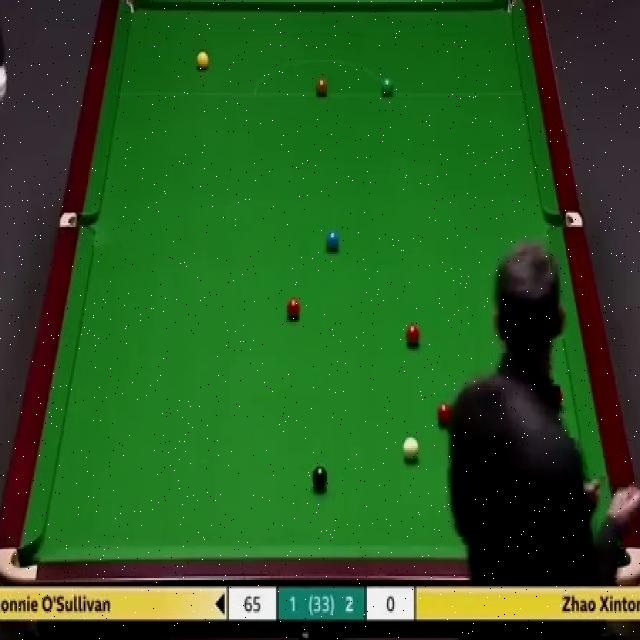black-ball: (314, 466, 328, 489)
blue-ball: (326, 226, 340, 254)
brown-ball: (314, 77, 330, 96)
green-ball: (380, 74, 395, 98)
red-ball: (435, 404, 453, 429), (404, 324, 421, 347), (286, 296, 300, 318)
white-ball: (402, 436, 419, 460)
yellow-ball: (197, 52, 209, 71)
